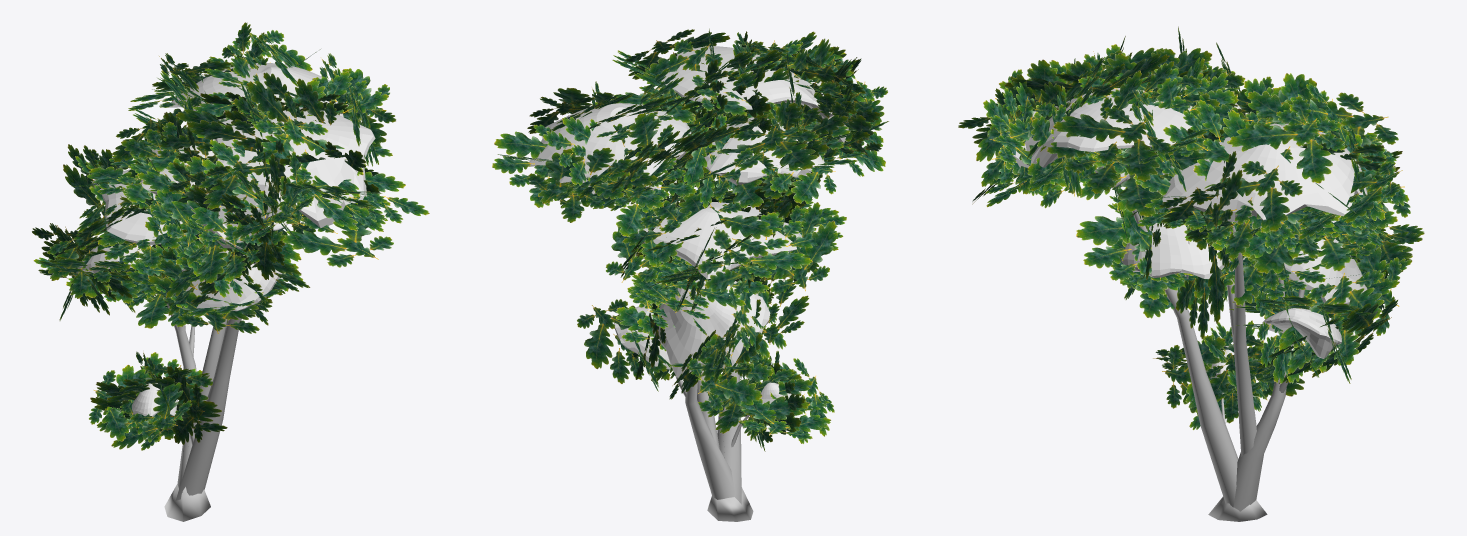
The model's file is дуб 3ум.fbx.
3 views of the same model, side by side, from view 1: azimuth 30°, elevation 25°; view 2: azimuth 150°, elevation 25°; view 3: azimuth 270°, elevation 25° (orthographic). The views are drawn at different scales.
Visible parts, largest first — view 1: Sphere|Plane|Dupli|, Sphere; view 2: Sphere|Plane|Dupli|, Sphere; view 3: Sphere|Plane|Dupli|, Sphere.
Boxes of the visible parts, x1,y1,x2,y2 form: Sphere|Plane|Dupli|: (32,22,429,521); Sphere: (75,63,375,416); Sphere|Plane|Dupli|: (492,28,888,521); Sphere: (528,46,848,404); Sphere|Plane|Dupli|: (958,26,1424,521); Sphere: (1012,84,1367,378).
Size of the model in its own units: 2127 by 2666 by 2565.
